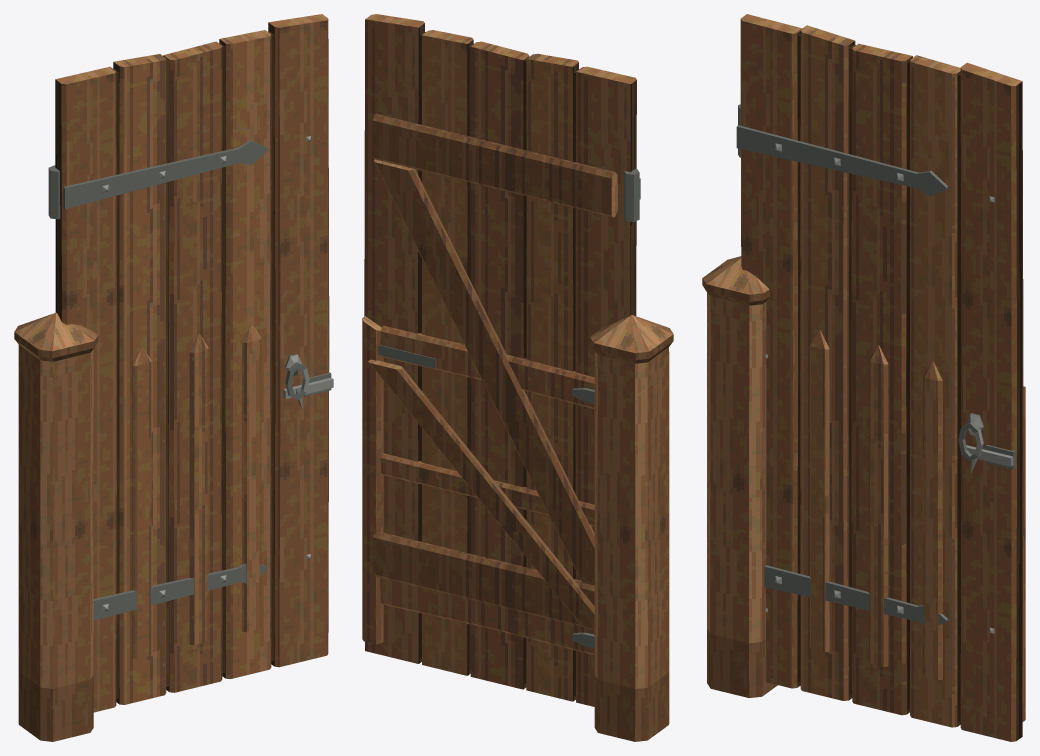
File: props.glb
3 views of the same model, side by side, from view 1: azimuth 30°, elevation 25°; view 2: azimuth 150°, elevation 25°; view 3: azimuth 330°, elevation 25° (orthographic). The views are drawn at different scales.
Visible parts, largest first — view 1: door-leaf_Planks, gate-post_Post, yard-gate_Timber, door-leaf_Iron, yard-gate_Iron; view 2: door-leaf_Planks, gate-post_Post, yard-gate_Timber, door-leaf_Iron, yard-gate_Iron; view 3: door-leaf_Planks, gate-post_Post, yard-gate_Timber, door-leaf_Iron, yard-gate_Iron.
Boxes of the visible parts, x1,y1,x2,y2 form: door-leaf_Planks: (55, 14, 329, 712); gate-post_Post: (14, 312, 98, 741); yard-gate_Timber: (132, 323, 261, 659); door-leaf_Iron: (48, 136, 310, 620); yard-gate_Iron: (115, 372, 333, 639); door-leaf_Planks: (364, 14, 636, 706); gate-post_Post: (590, 315, 673, 741); yard-gate_Timber: (362, 316, 594, 655); door-leaf_Iron: (378, 169, 640, 368); yard-gate_Iron: (572, 388, 594, 648); door-leaf_Planks: (740, 14, 1023, 741); gate-post_Post: (702, 256, 777, 697); yard-gate_Timber: (810, 329, 1025, 721); door-leaf_Iron: (736, 104, 994, 633); yard-gate_Iron: (765, 354, 1015, 619).
Bounding box in the file's own units: 1.12 × 2.33 × 0.224.
7 materials, 5 textured.
